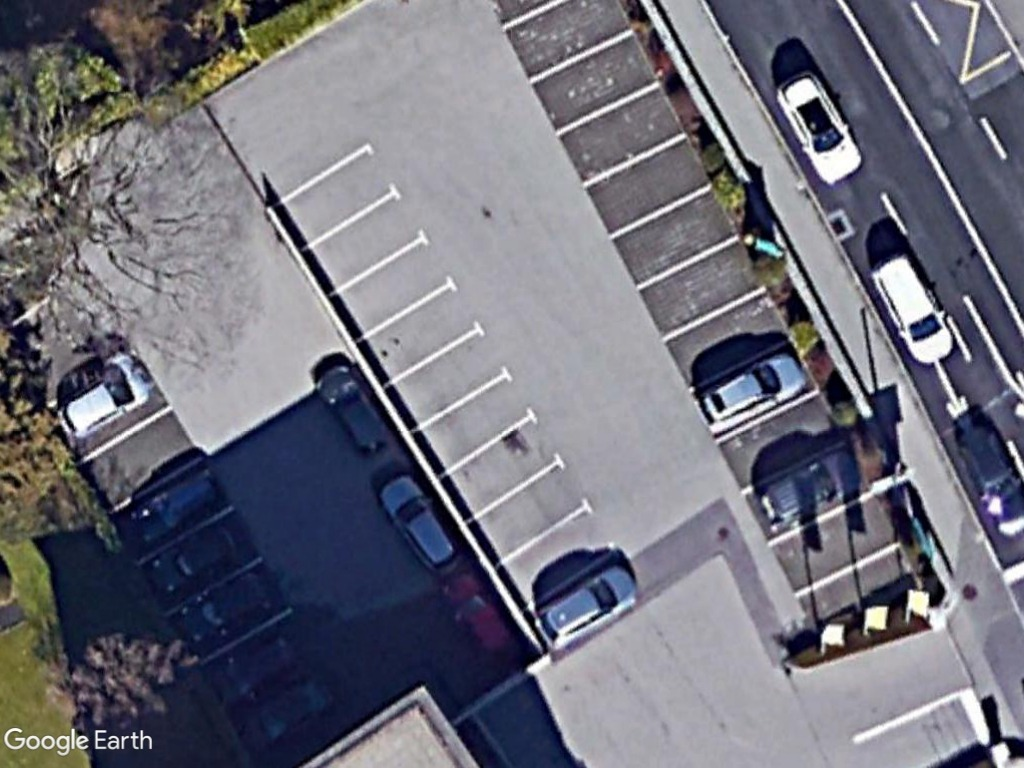car: (770, 69, 866, 185), (867, 248, 957, 369), (376, 474, 466, 581), (697, 348, 813, 430), (754, 447, 867, 528), (533, 564, 636, 650), (310, 364, 395, 461), (55, 368, 151, 445)
